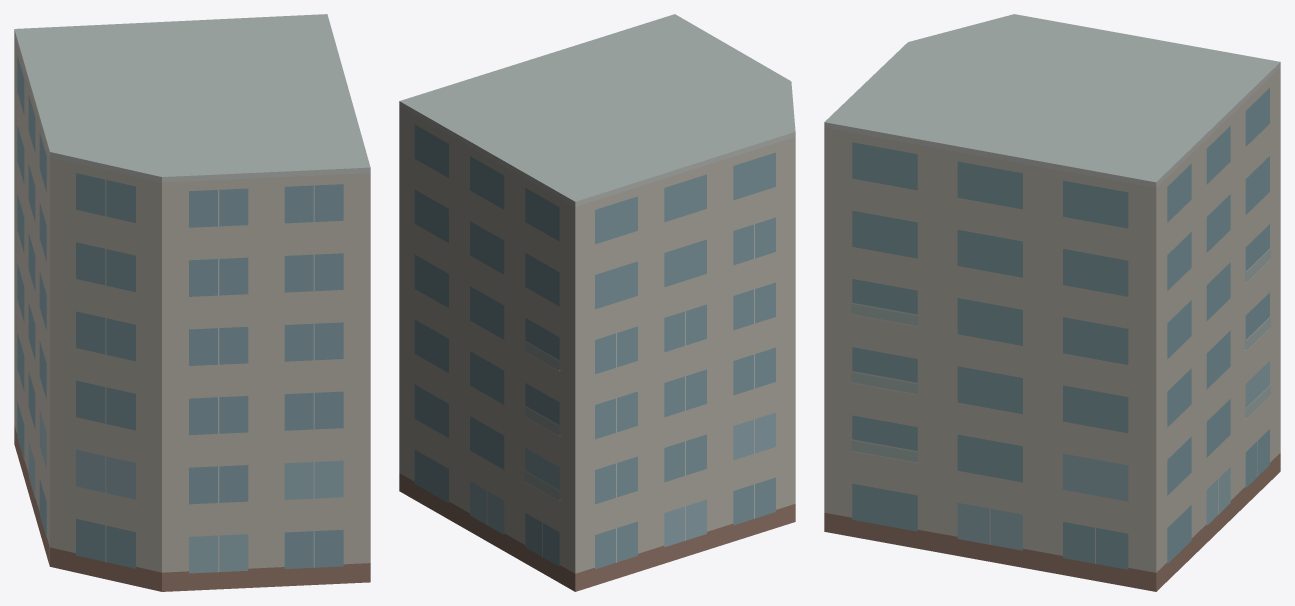
Rendered from survey-upis-32817299.glb.
The picture shows the model from 3 angles, left to right: view 1: azimuth 30°, elevation 25°; view 2: azimuth 150°, elevation 25°; view 3: azimuth 270°, elevation 25°; orthographic projection. The views are drawn at different scales.
Parts seen in each view (by area): view 1: survey-upis-32817299.tmp; view 2: survey-upis-32817299.tmp; view 3: survey-upis-32817299.tmp.
Boxes of the visible parts, box(x1,y1,x2,y2) form: survey-upis-32817299.tmp: box(14, 14, 370, 591); survey-upis-32817299.tmp: box(399, 14, 795, 591); survey-upis-32817299.tmp: box(824, 14, 1280, 591).
Bounding box in the file's own units: 16.14 × 18.3 × 18.49.
